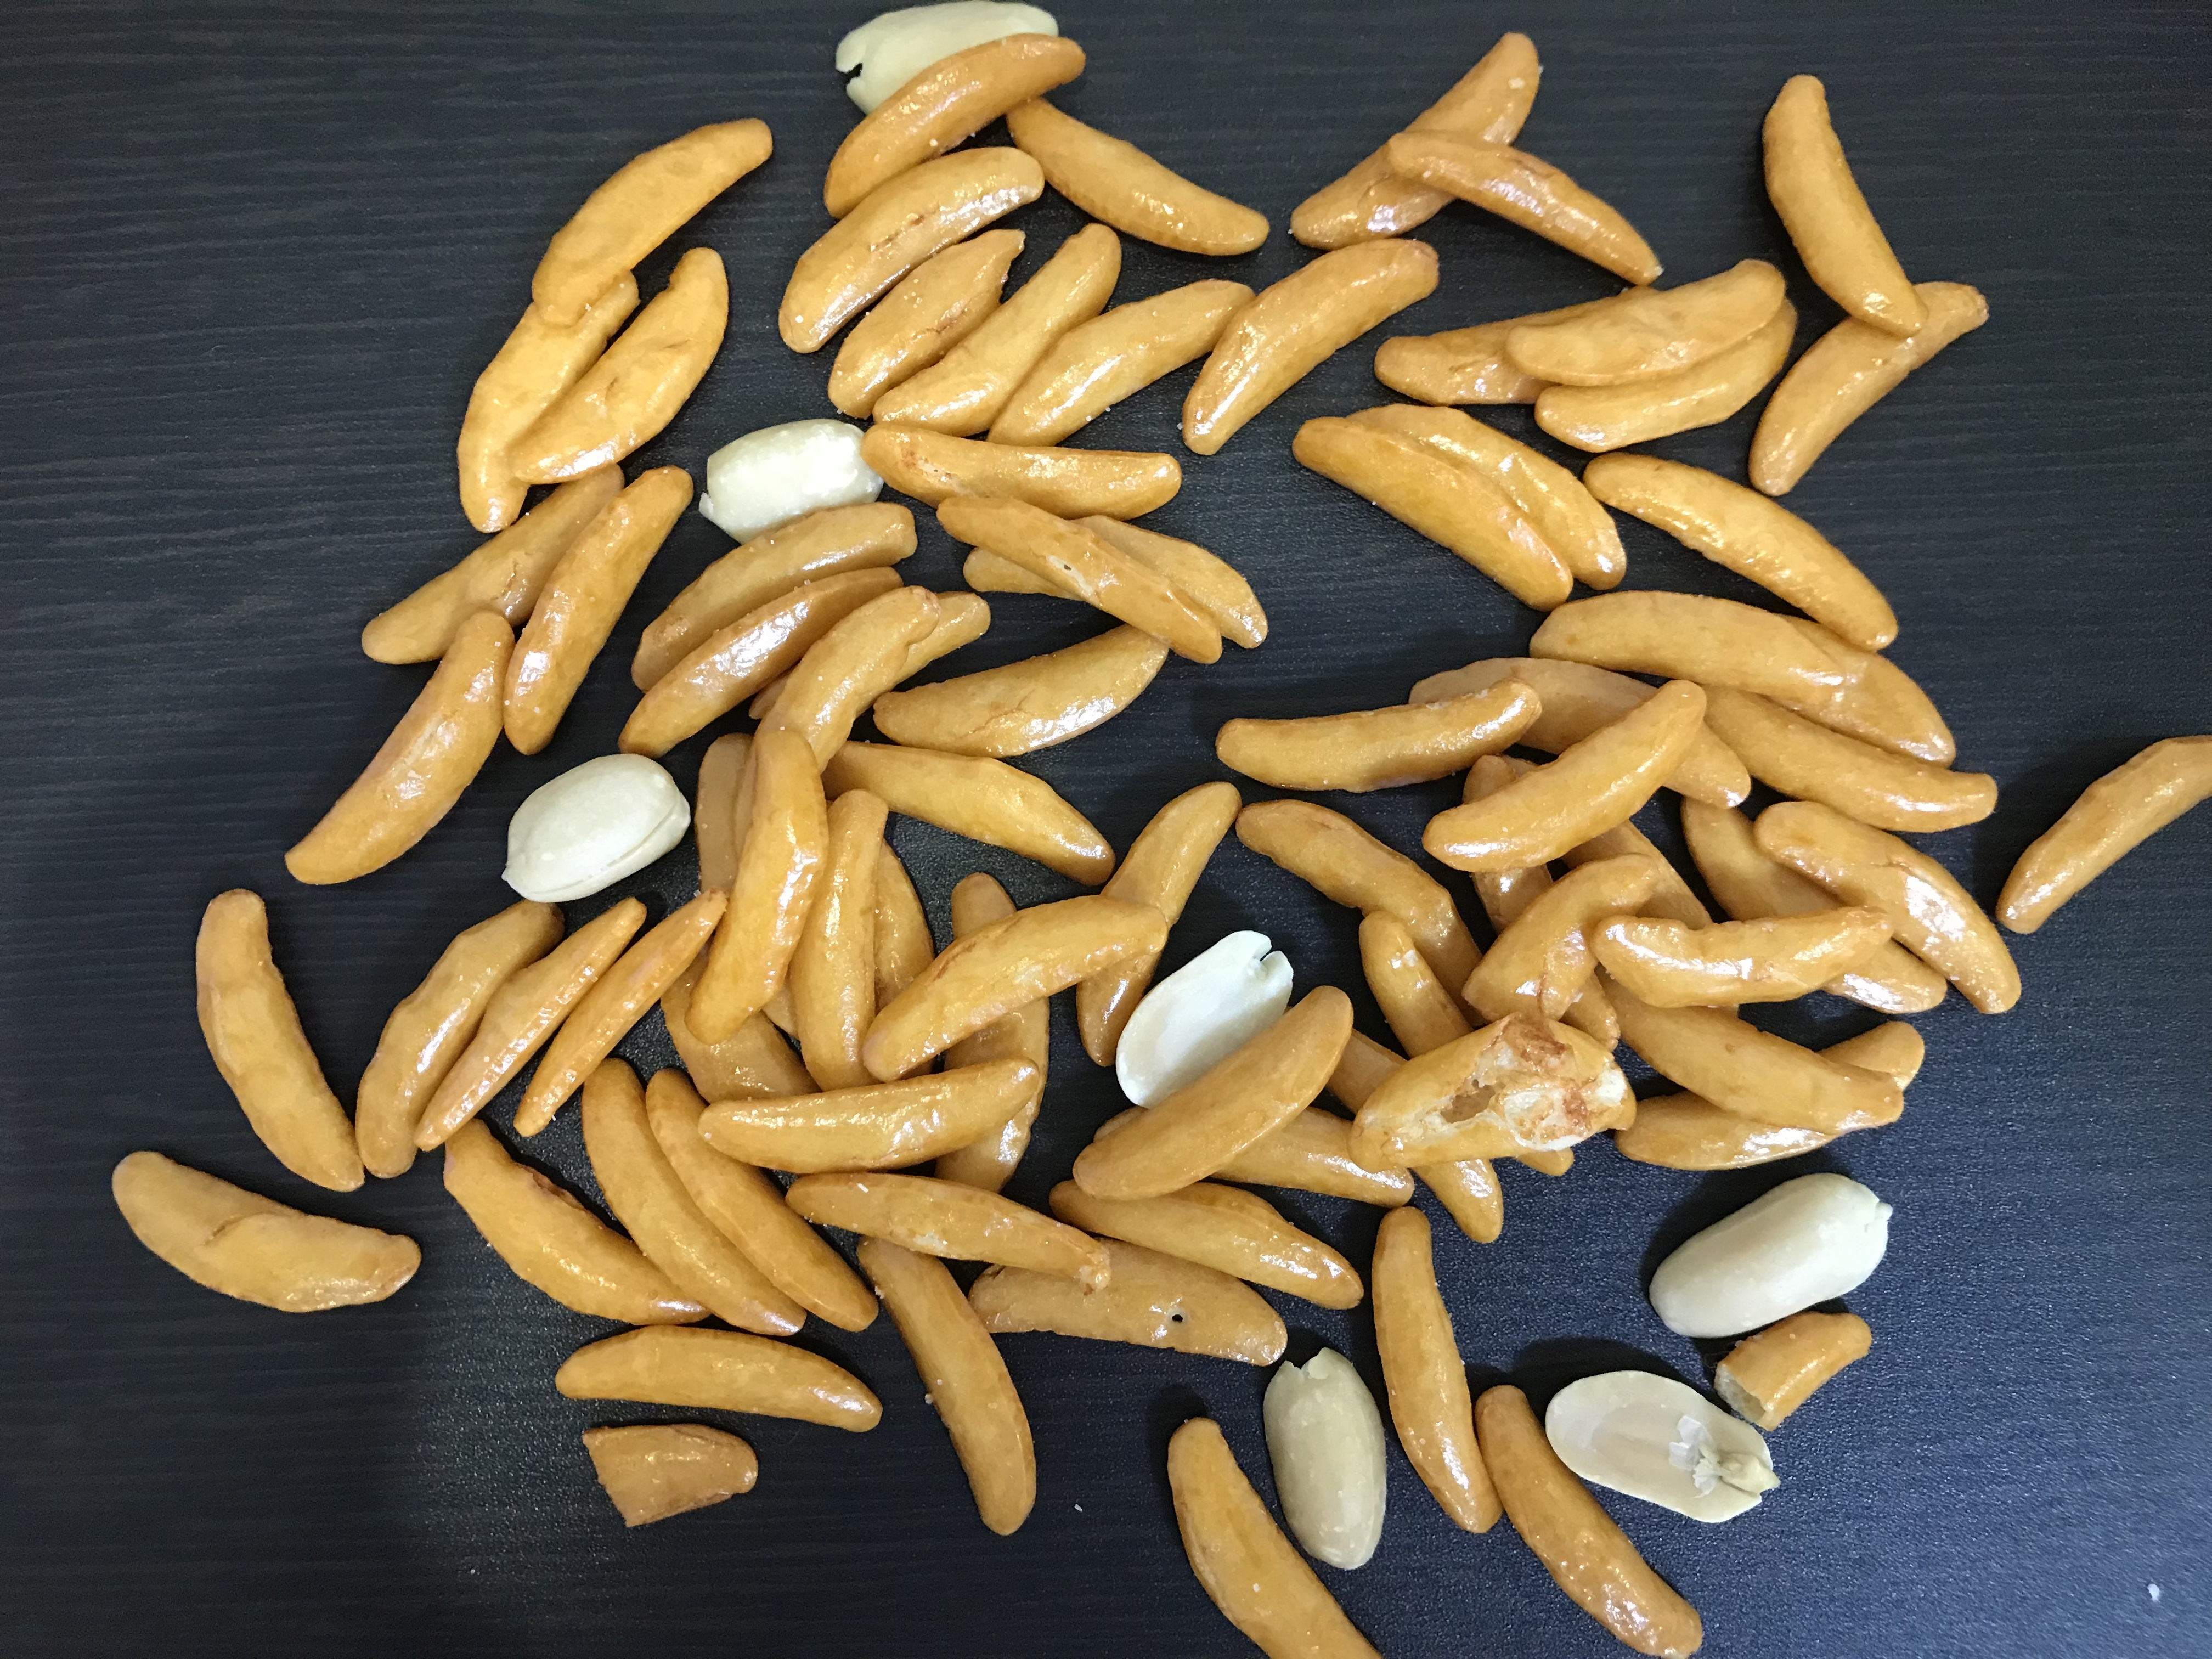peanut: (1642, 1175, 1897, 1338), (1541, 1373, 1780, 1525), (1116, 922, 1301, 1108), (495, 746, 695, 904), (1264, 1344, 1388, 1565), (834, 10, 1069, 108), (698, 415, 883, 528)
